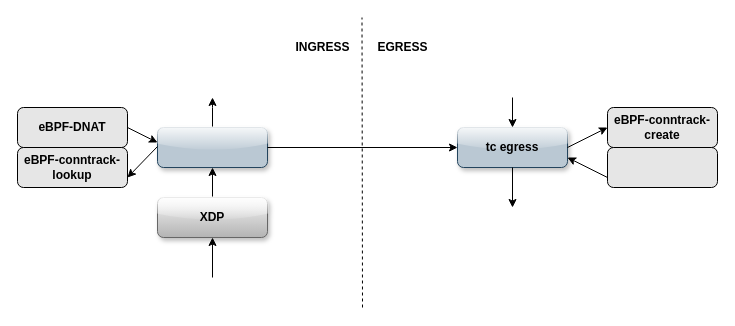
The diagram is 735 pixels wide and 326 high, and some of its shapes have lost their labels. Here are the shapes that lost their labels. From the top down, the centre of each, then its label:
(x=213, y=148): tc ingress
(x=662, y=167): eBPF-SNAT
